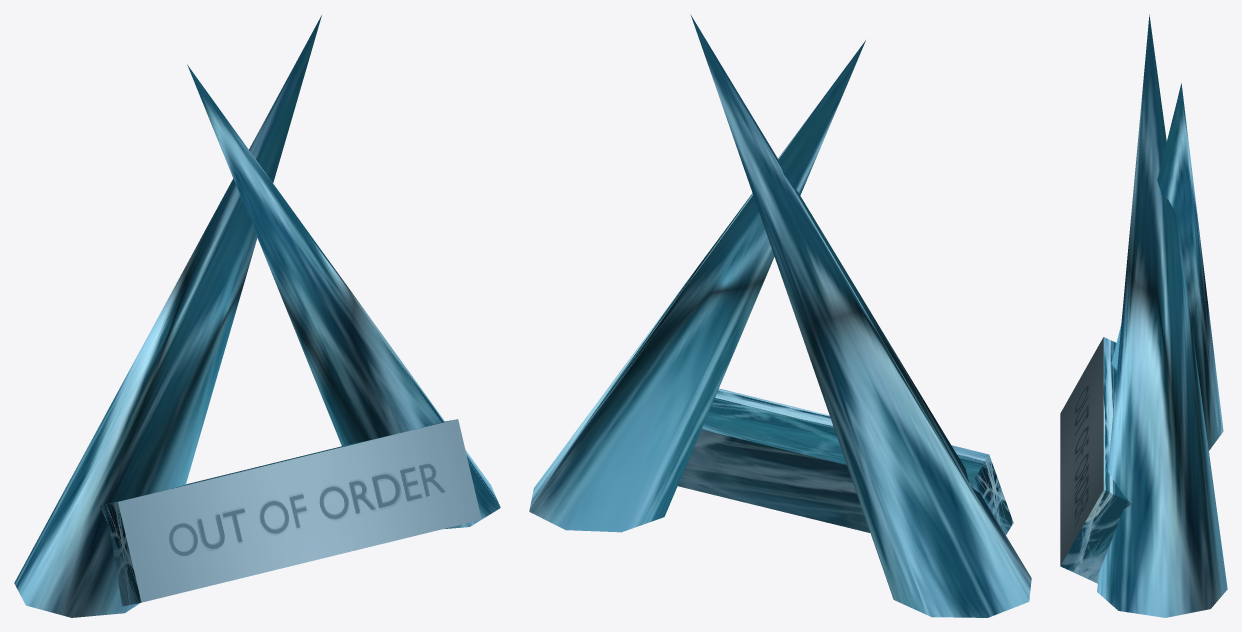
Rendered from outoforder1.glb.
The picture shows the model from 3 angles, left to right: view 1: azimuth 30°, elevation 25°; view 2: azimuth 150°, elevation 25°; view 3: azimuth 270°, elevation 25°; orthographic projection. The views are drawn at different scales.
Visible parts, largest first — view 1: Cube.013, OOOice, OOORice; view 2: OOOice, OOORice, Cube.013; view 3: OOORice, Cube.013, OOOice.
Boxes of the visible parts, x1,y1,x2,y2 form: Cube.013: (99,419,481,606); OOOice: (14,15,321,617); OOORice: (187,64,500,529); OOOice: (690,14,1031,617); OOORice: (529,40,865,532); Cube.013: (678,388,1013,534); OOORice: (1097,14,1227,617); Cube.013: (1060,337,1133,583); OOOice: (1111,83,1223,450).
Size of the model in its own units: 2.78 by 2.83 by 0.9266.
3 materials, 3 textured.
